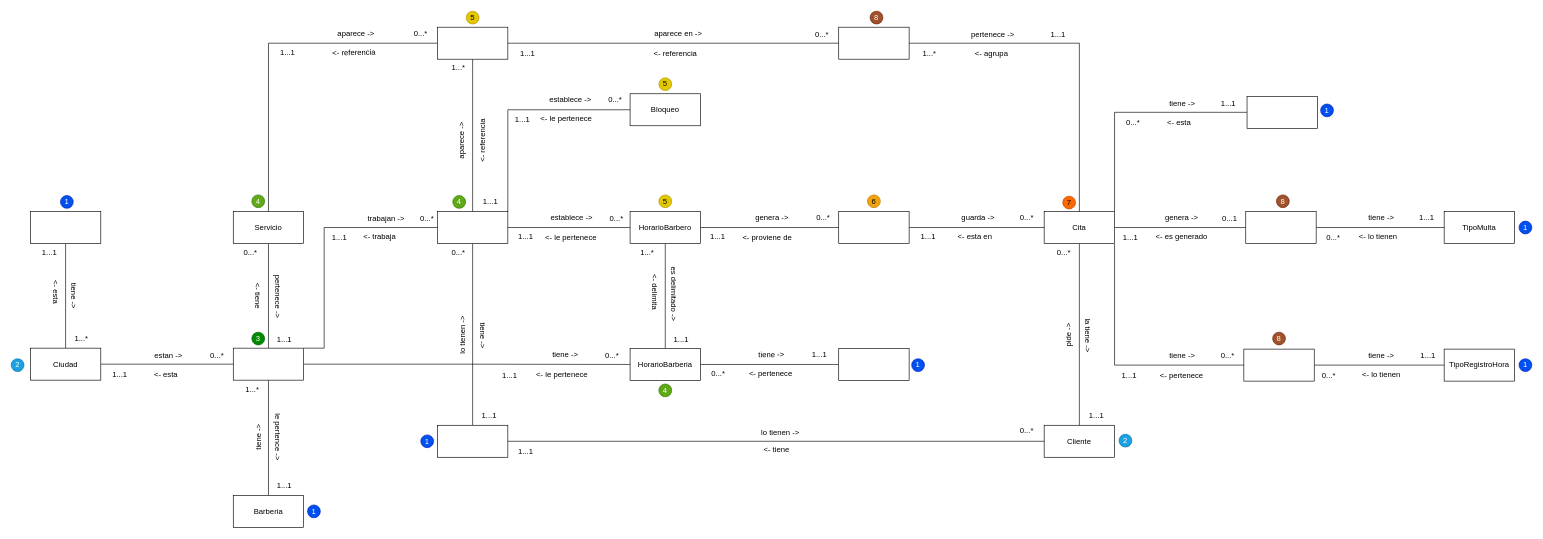
Image size: 1543x539. Some labels were removed from this diagram. Here are the shapes that lost their labels. From the top down, the centre of each, then its label:
At (472,43): "BarberoServicio".
At (873,43): "CitaServicio".
At (1281,112): "Estado".
At (65,227): "Departamento".
At (472,227): "Barbero".
At (873,227): "Agenda".
At (1280,227): "Multa".
At (268,364): "Sede".
At (873,364): "DiaSemana".
At (1278,364): "RegistroHoraCita".
At (472,441): "PrefijoCelular".
